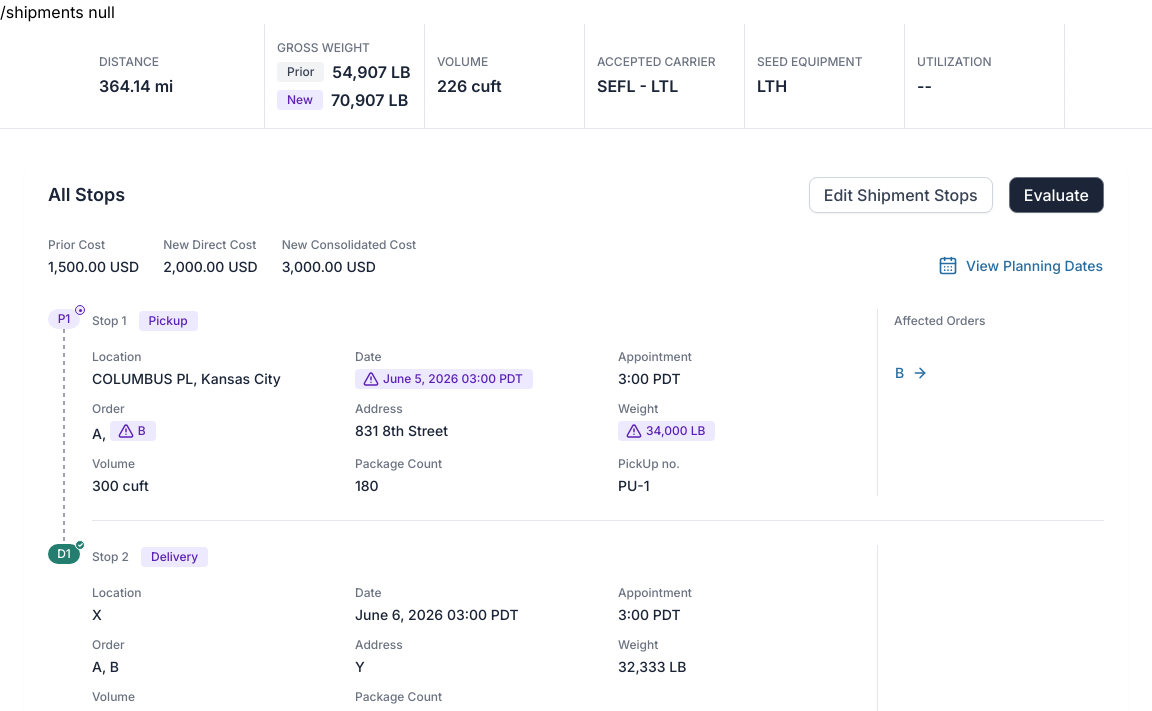
Test: StopsTab — Evaluate -> Approve Plan (T3) › Evaluate opens the routing modal with Keep Reviewing / Approve Plan; Keep Reviewing closes it
Click the button "Evaluate" at x=1056, y=195, box [1009,177,1104,213]
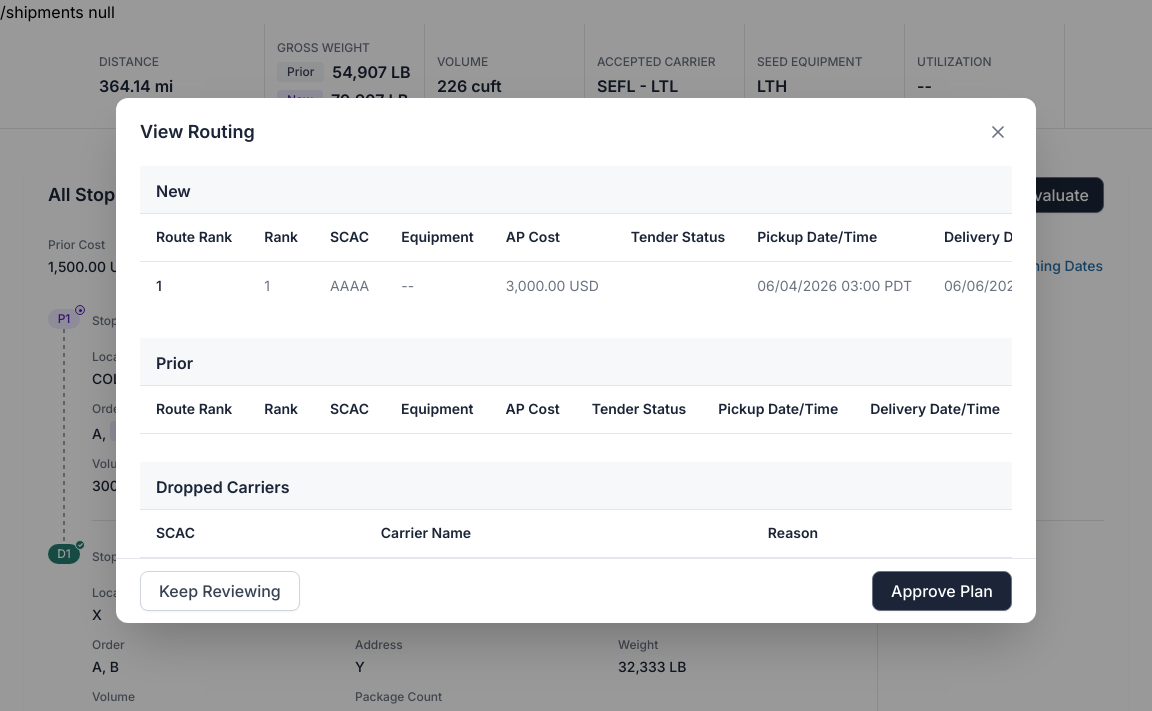
Result: the dialog "View Routing" is shown at [116,98,1036,622]
Result: the button "Keep Reviewing" is shown
Click the button "Keep Reviewing" at x=220, y=590, box [140,570,300,610]
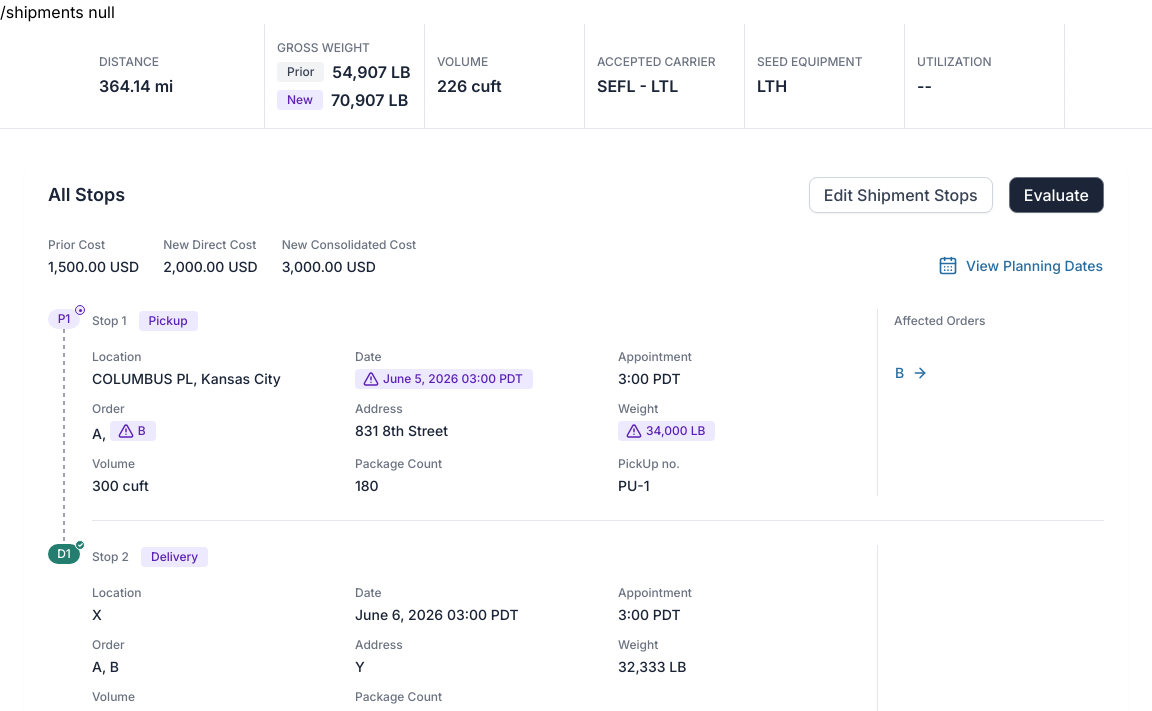
Result: the text "View Routing" is gone
